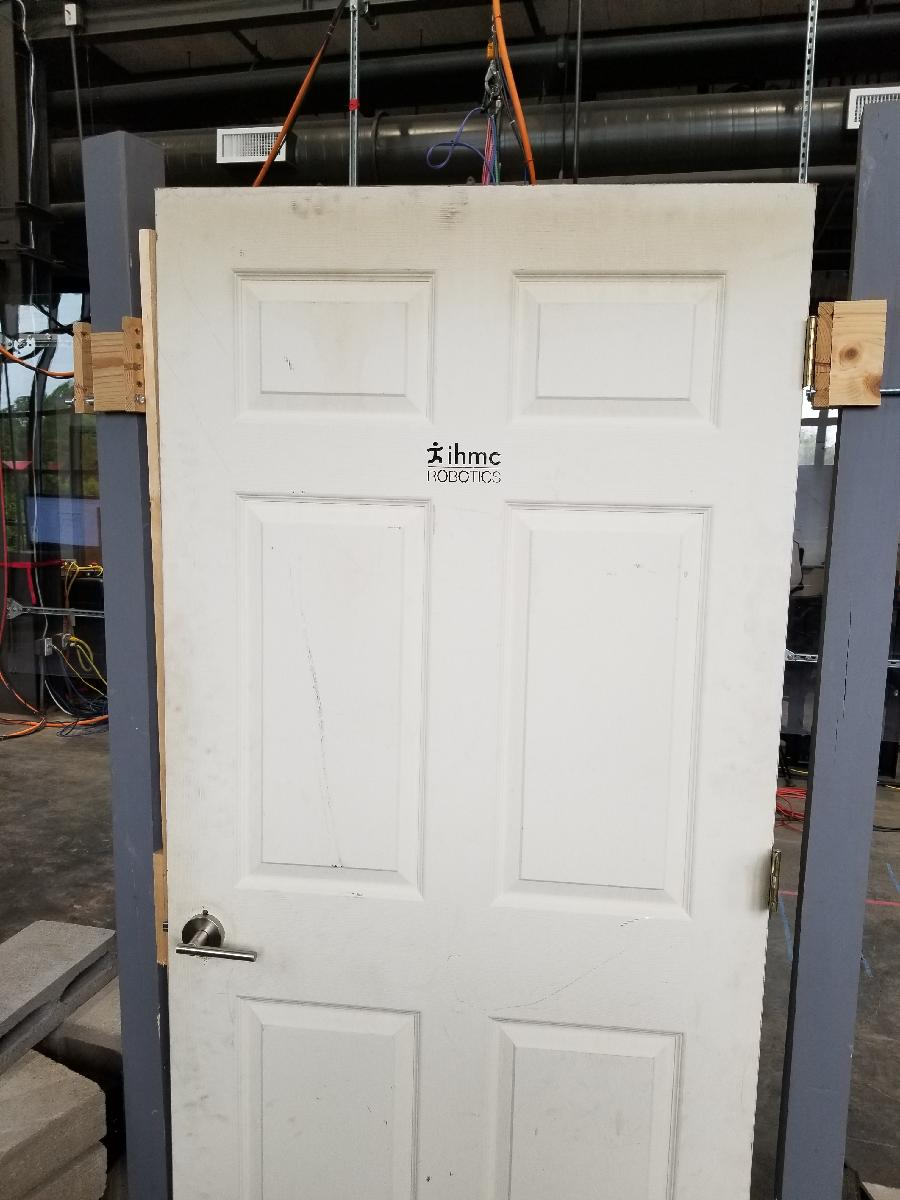doorHandle: (174, 909, 265, 970)
